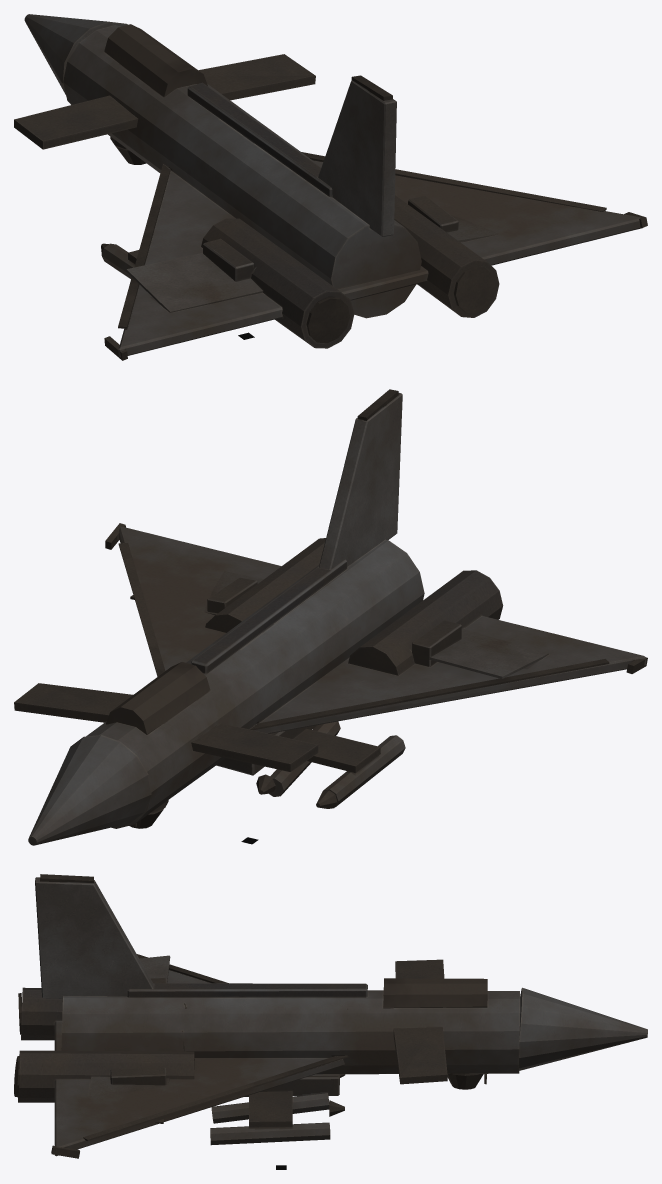
File: chs_manticore_wreck.fbx
3 renders of one model, top to bottom at view 1: azimuth 30°, elevation 25°; view 2: azimuth 150°, elevation 25°; view 3: azimuth 270°, elevation 25°, orthographic. The views are drawn at different scales.
Parts seen in each view (by area): view 1: base_bar, pylon_bar; view 2: base_bar, pylon_bar; view 3: base_bar, pylon_bar, turret_bar.
Boxes of the visible parts, bbox=[...] form: base_bar: bbox=[14, 14, 647, 360]; pylon_bar: bbox=[101, 243, 138, 278]; base_bar: bbox=[14, 389, 647, 845]; pylon_bar: bbox=[216, 721, 405, 808]; base_bar: bbox=[14, 874, 647, 1158]; pylon_bar: bbox=[210, 1074, 345, 1145]; turret_bar: bbox=[447, 1073, 486, 1089].
Bounding box in the file's own units: 957 × 598 × 1180.
Materials: 2 (2 with a texture image).
